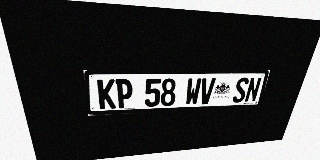5: (145, 78, 161, 107)
8: (160, 78, 177, 106)
K: (97, 79, 116, 109)
N: (244, 77, 262, 102)
P: (115, 79, 132, 108)
S: (232, 77, 250, 103)
V: (198, 78, 216, 104)
W: (185, 78, 202, 105)
